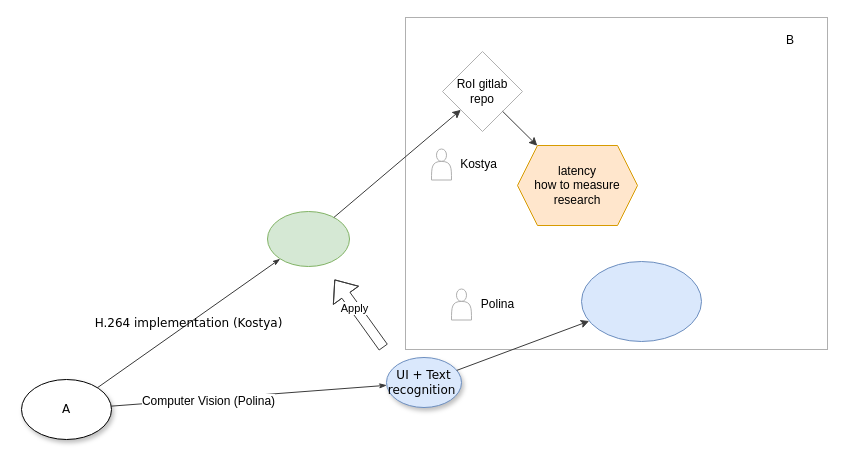
Image size: 845x464. Some labels were removed from this diagram. The centre of each missing label's shape, as x and y in pixels:
"Region of Interest" belongs at pixel 308 238.
"Upscaling 720p to 1080p" belongs at pixel 641 301.
